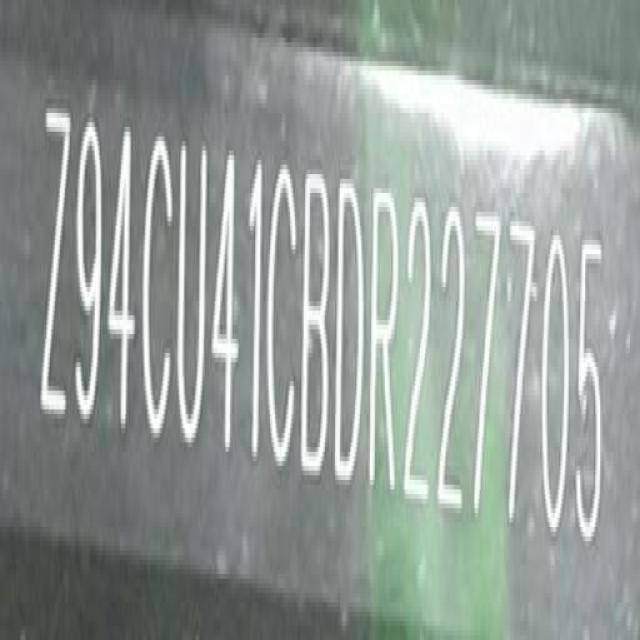0: (543, 229, 572, 546)
1: (245, 157, 262, 467)
2: (436, 203, 467, 522), (404, 199, 434, 516)
4: (107, 121, 139, 441), (211, 150, 242, 460)
5: (574, 232, 604, 547)
7: (470, 207, 501, 530), (509, 214, 537, 536)
9: (73, 117, 105, 435)
B: (302, 168, 334, 479)
C: (142, 136, 180, 451), (267, 167, 297, 474)
D: (335, 178, 366, 493)
R: (368, 183, 401, 496)
U: (177, 134, 210, 445)
Z: (40, 108, 72, 431)
